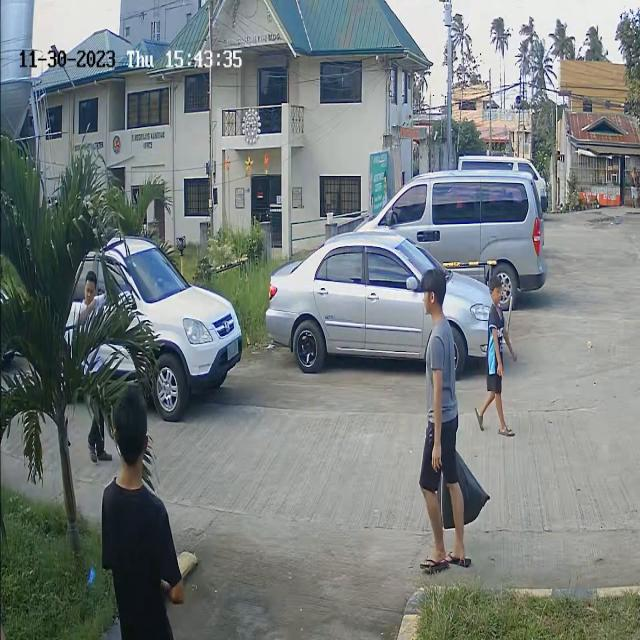person: (97, 386, 155, 506), (420, 278, 460, 399), (484, 278, 508, 358), (66, 266, 100, 319)
